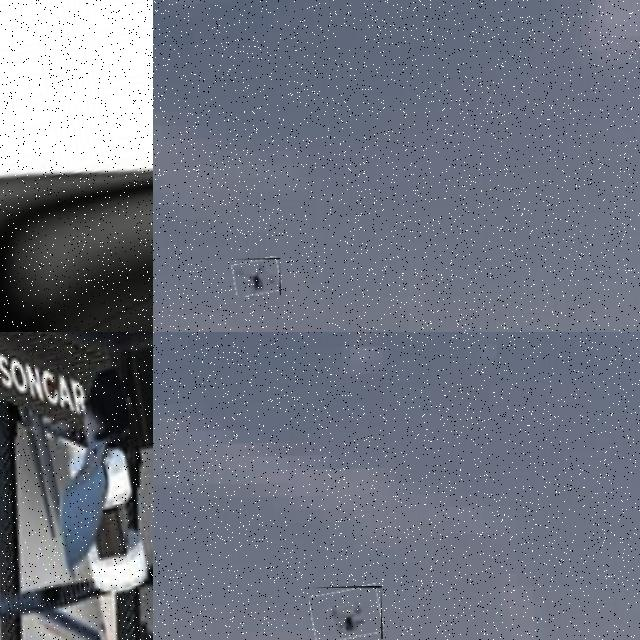drone: (0, 0, 153, 332), (0, 332, 153, 640), (310, 586, 382, 640), (232, 258, 280, 296)
